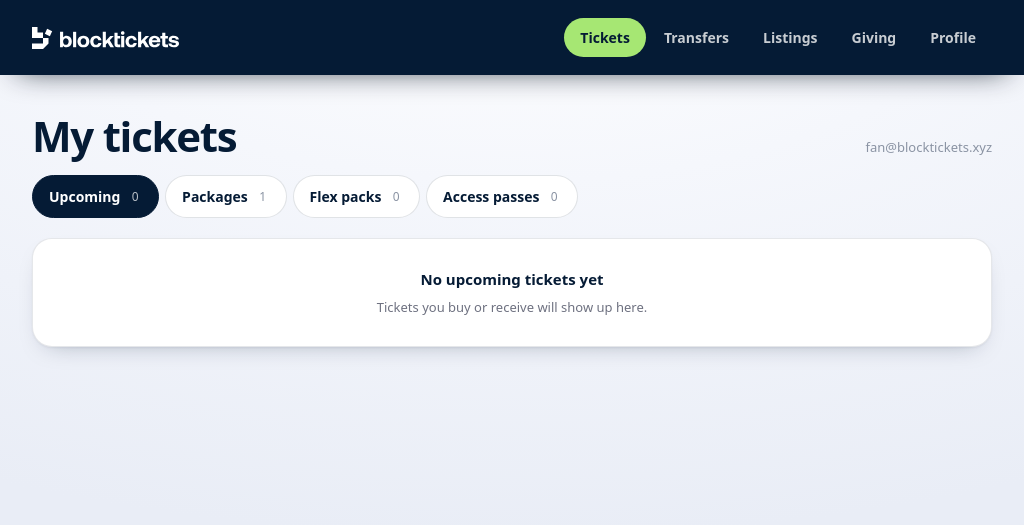
Test: SeasonTickets empty wallet › shows pending incoming season pass transfers on the Packages tab
Expected: the text "Pending transfer from jaimeconvery@hotmail.com" is not shown
Click the button "Packages 1" at (226,196), box [165, 175, 286, 218]
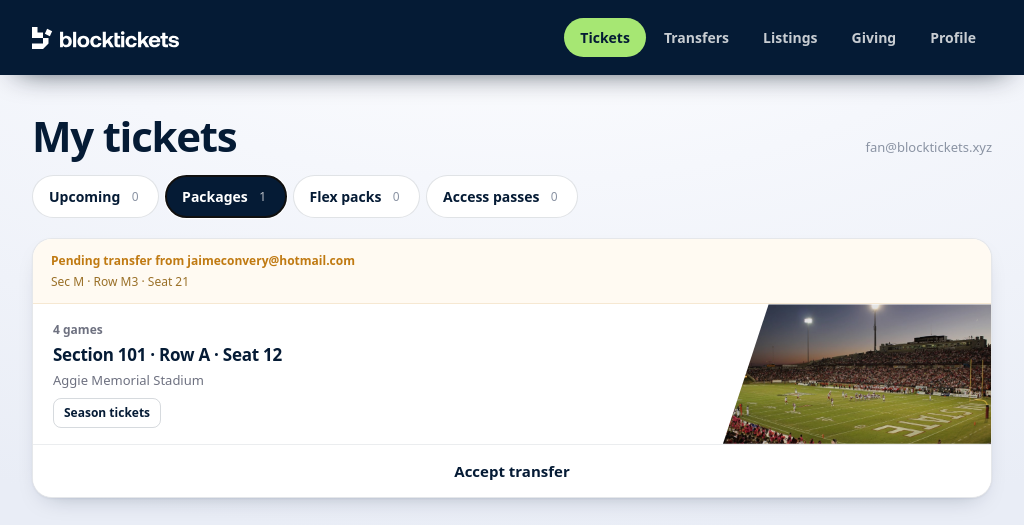
Now the text "Pending transfer from jaimeconvery@hotmail.com" is shown, box [51, 252, 355, 269]
Now the text "Section 101 · Row A · Seat 12" is shown, box [53, 343, 282, 366]
Now the text "Season tickets" is shown, box [53, 398, 161, 428]
